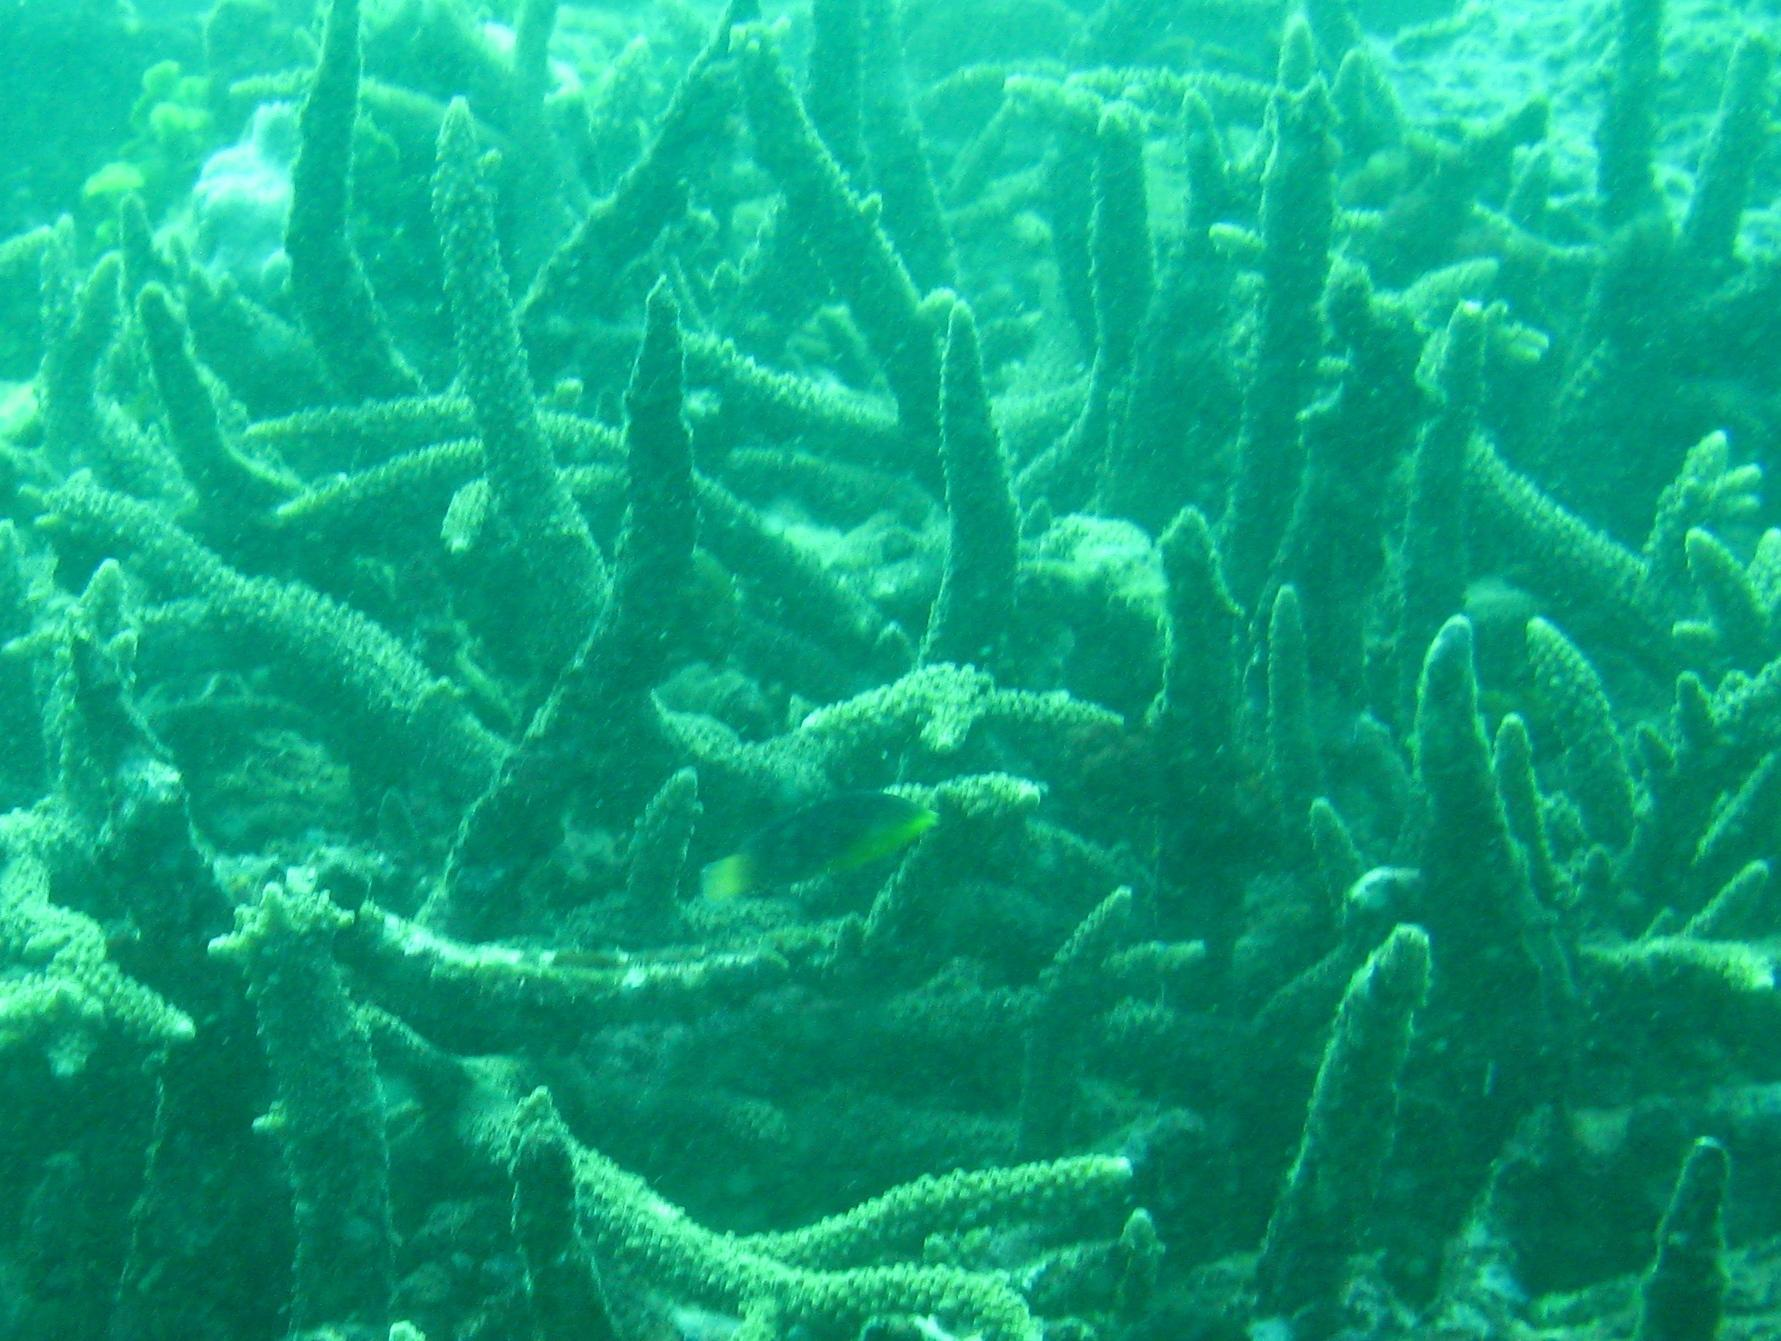Fish: (681, 780, 948, 904)
